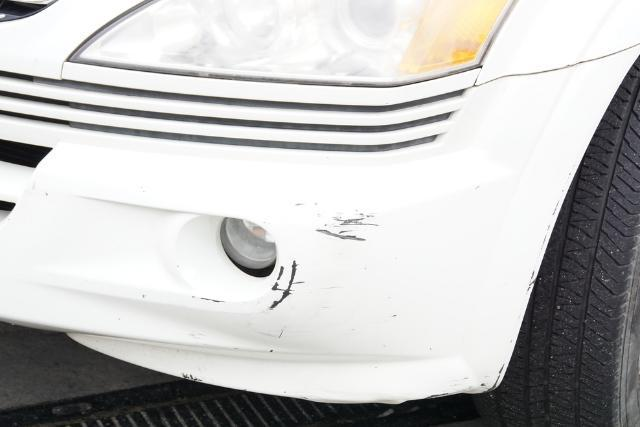Bumper: (256, 158, 403, 337)
